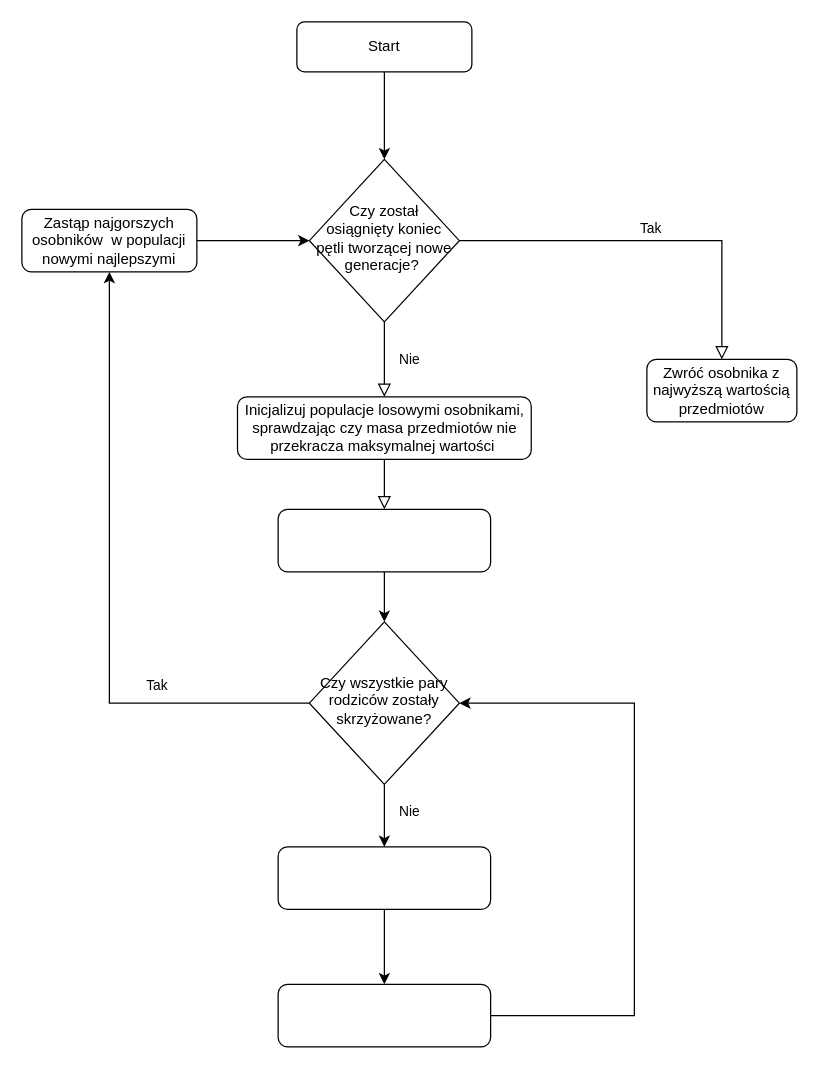
Some shapes in this 819 by 1069 pixel diagram are drawn without their labels. The centre of each missing label's shape, as x and y in pixels:
Krzyżowanie: point 384,877
Wprowadź mutację do potomstwa: point 384,1015
Wybierz najlepszych rodziców do krzyżowania na podstawie wartości przedmiotów: point 384,540
